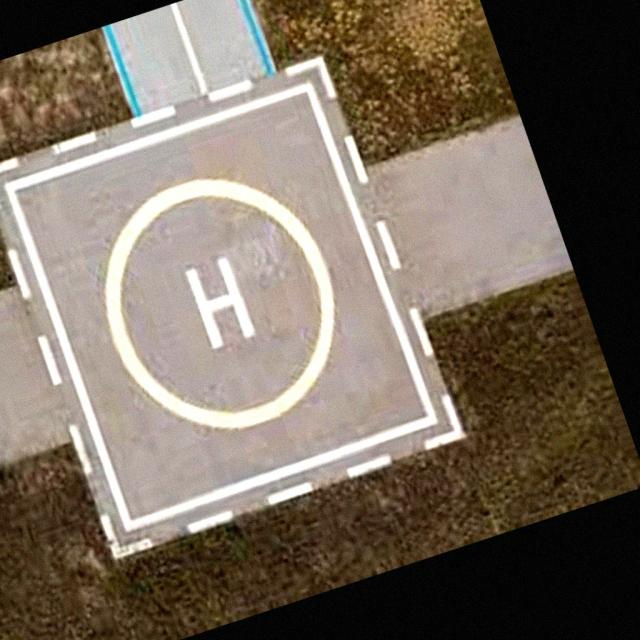helipad: (98, 173, 337, 432)
